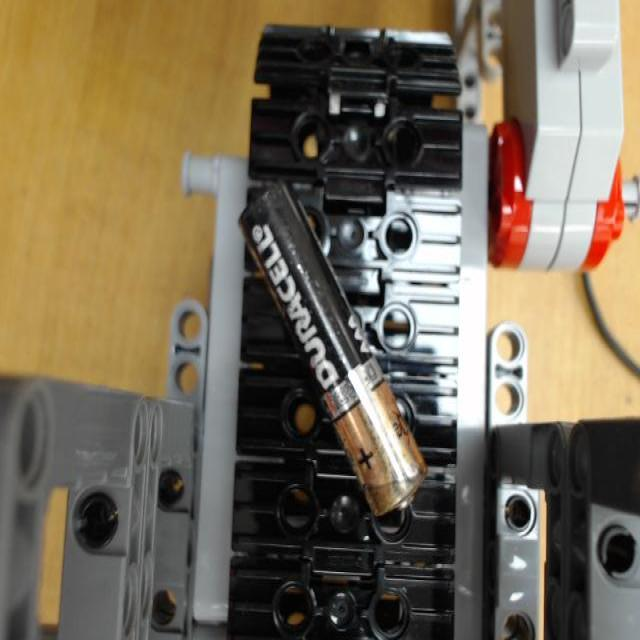AAA: (238, 182, 428, 522)
